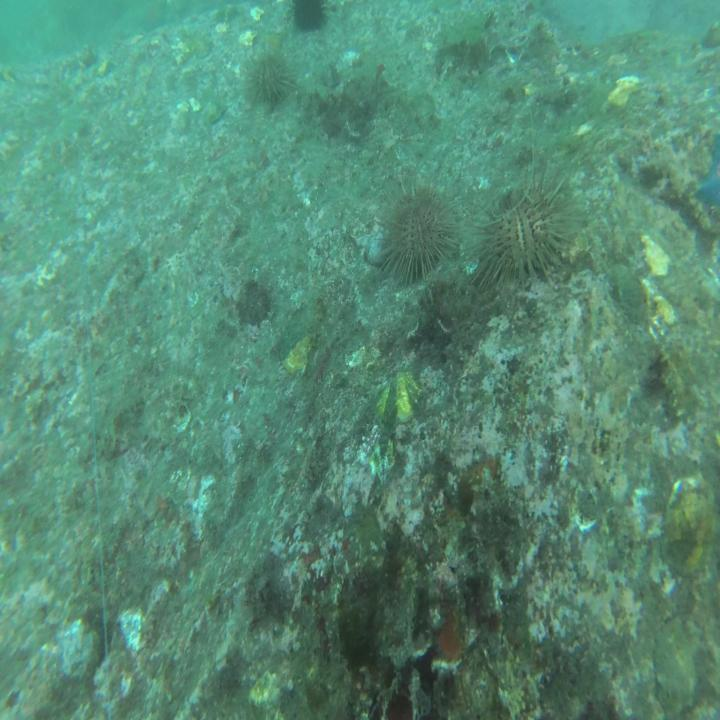echinus: (479, 182, 569, 291), (378, 188, 460, 276), (250, 42, 294, 106), (292, 4, 330, 30)
scallop: (664, 468, 712, 580), (371, 370, 423, 426)
starfish: (693, 140, 720, 235)
